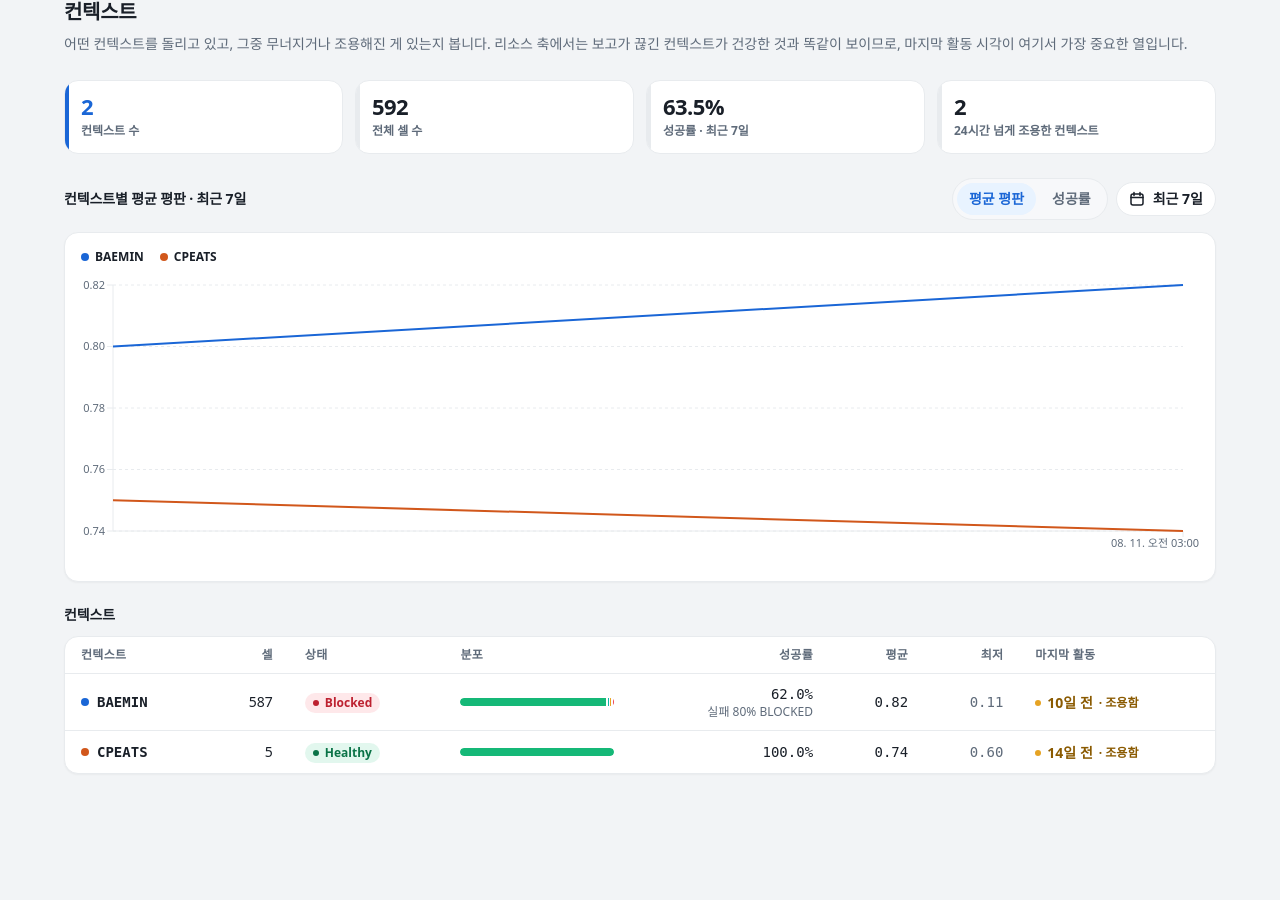
Test case: 컨텍스트 화면 — 성공률 (#189) › 기간을 바꾸면 → 이전 기간의 성공률을 새 기간 라벨 옆에 남기지 않는다
The image size is (1280, 900).
Check: the text "63.5%" is shown, box [663, 95, 724, 117]
Click the button with aria-label "추이 기간 선택".
click(1166, 199)  # box [1116, 182, 1216, 216]
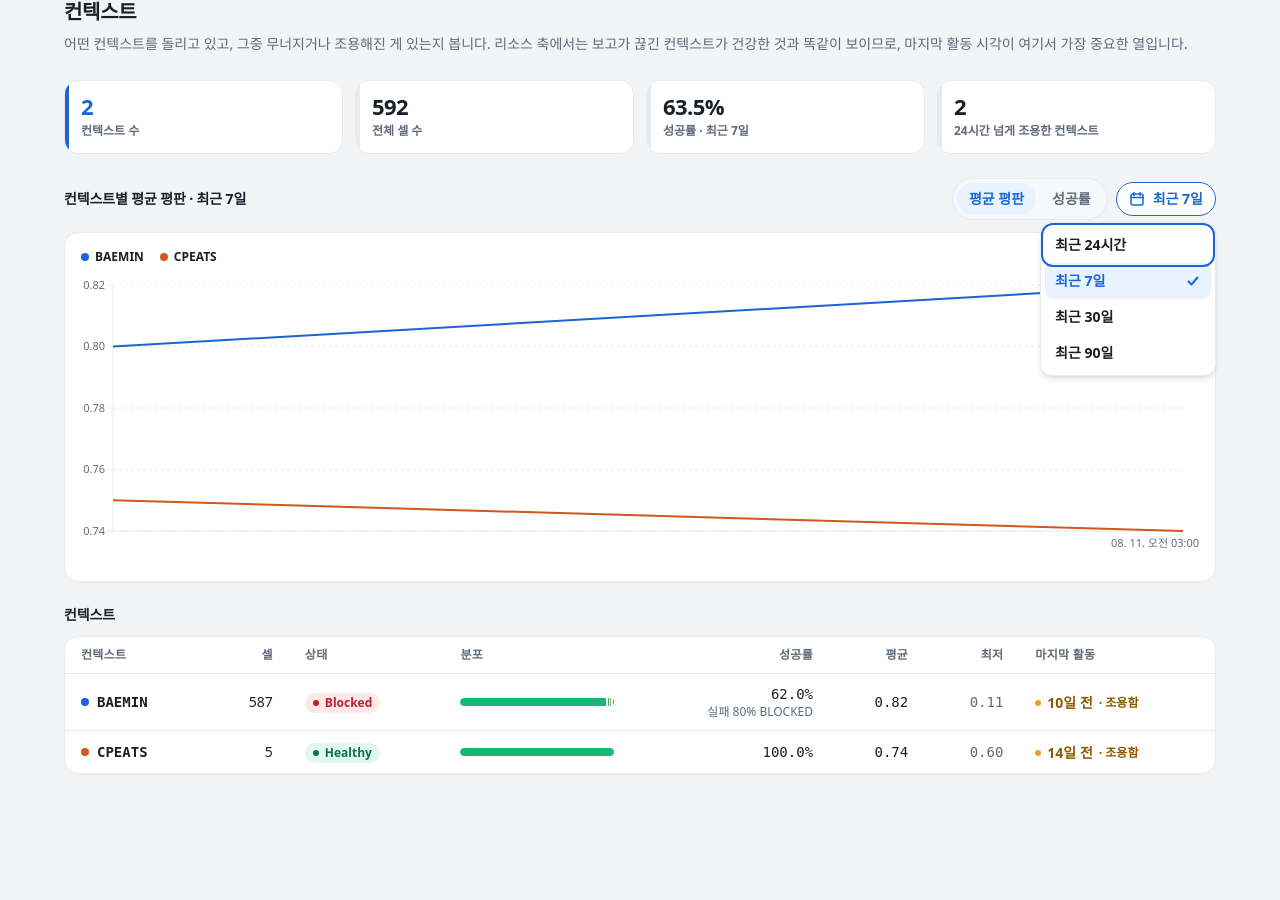
Click the button "최근 90일".
click(1128, 353)  # box [1045, 335, 1211, 371]
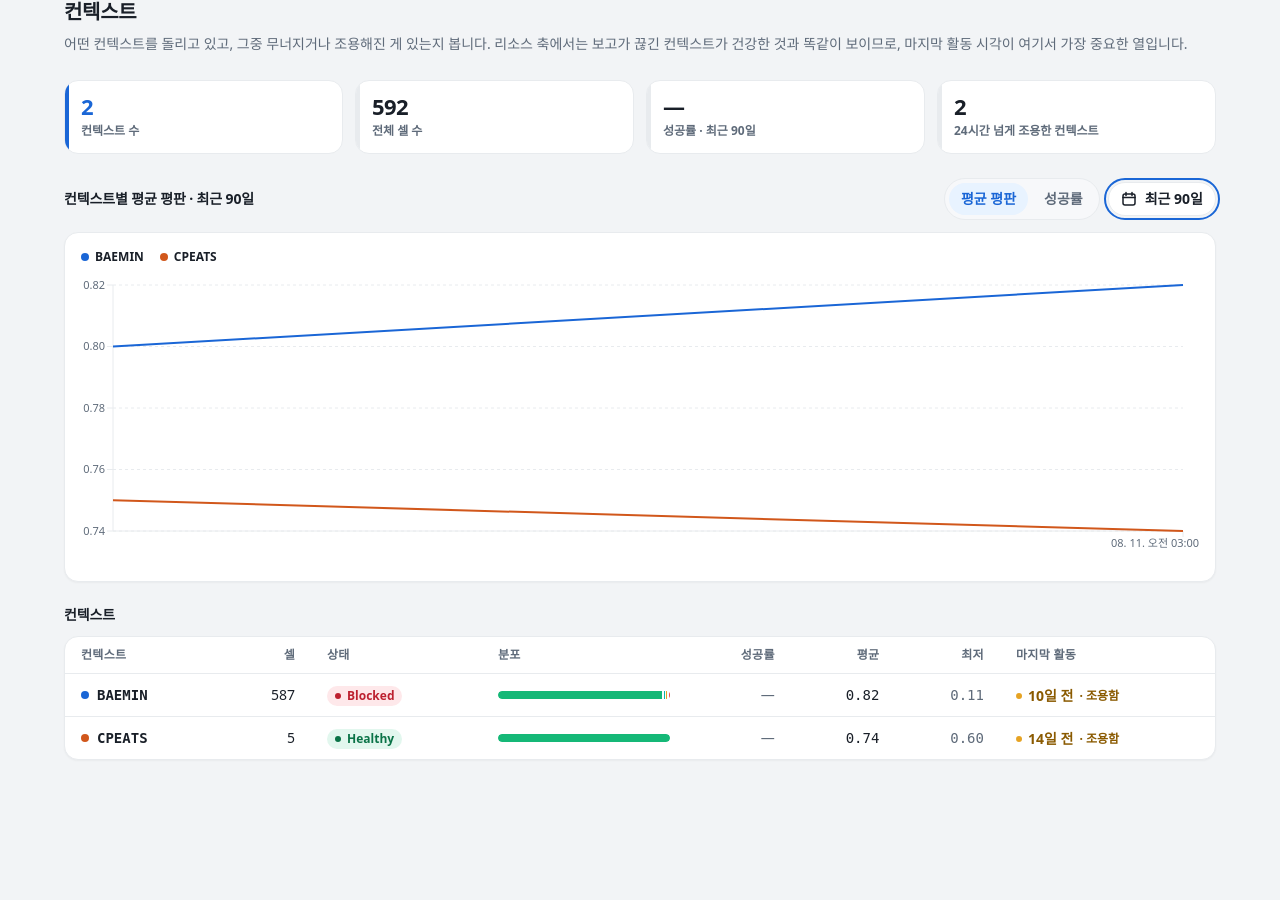
Check: the text "63.5%" is gone
Check: the text "성공률 · 최근 90일" is shown, box [663, 122, 756, 139]
